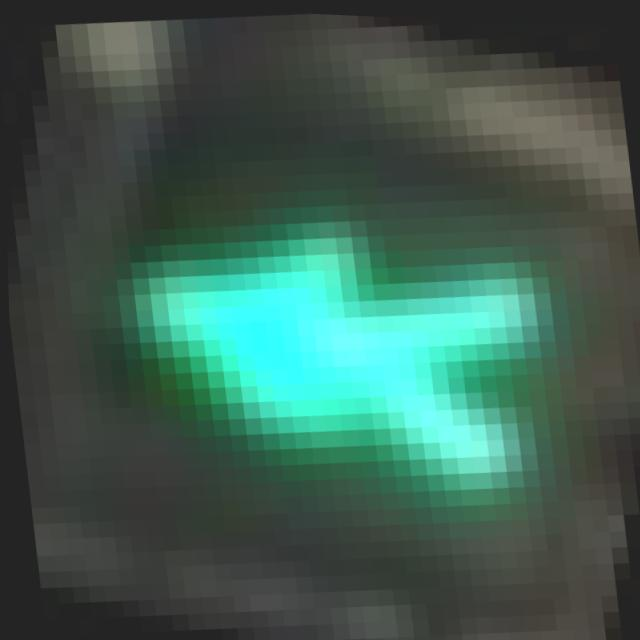green_light: (81, 92, 618, 536)
